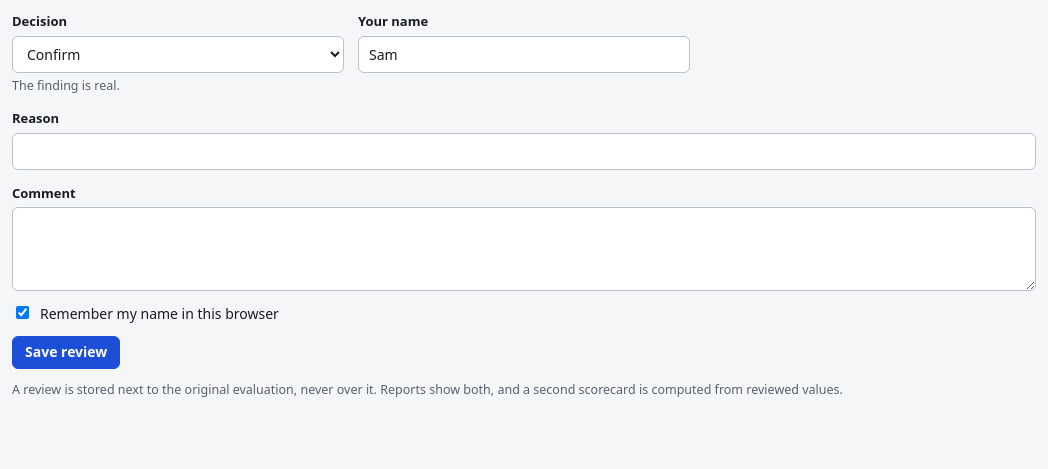
ReviewForm › shows why the server refused it, and does not say it was saved
This screenshot has width=1048, height=469.
Click the button "Save review" at {"x": 66, "y": 353}, box [12,336,120,369]
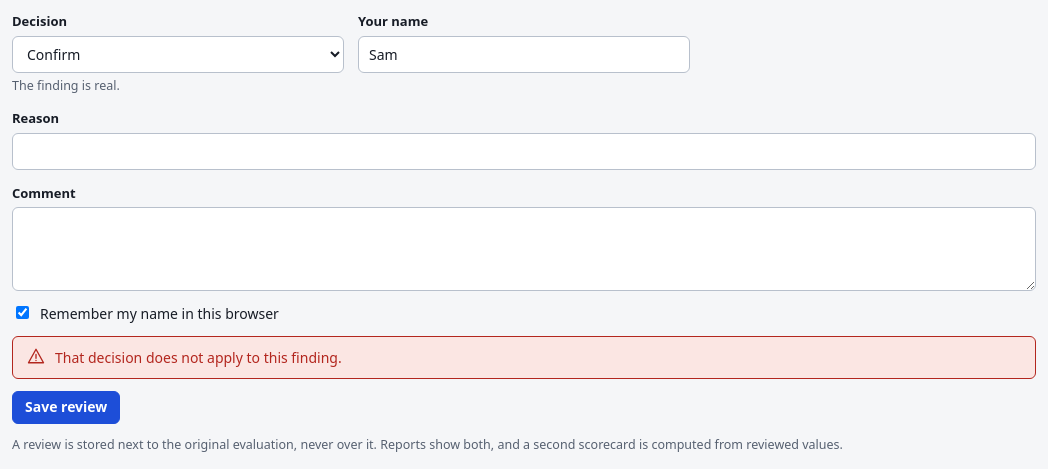
Expected: the button "Save review" is enabled, [12,391,120,424]
Expected: the text "That decision does not apply to this finding." is shown, [55,348,342,367]
